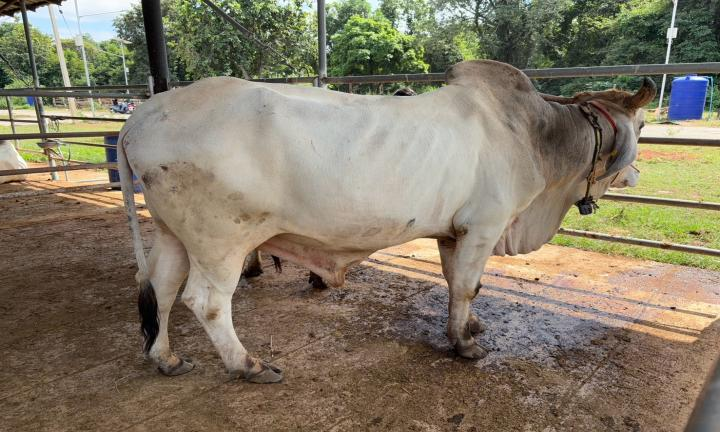Brahman: (117, 60, 656, 382)
